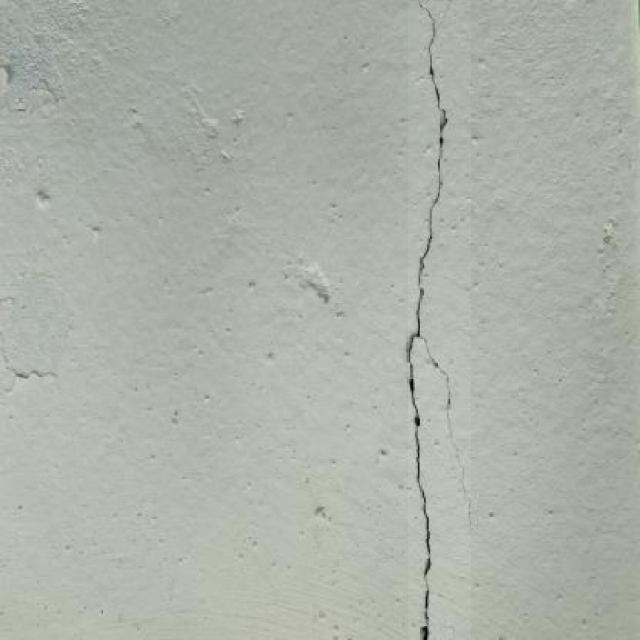multi-branched crack: (408, 1, 471, 640)
